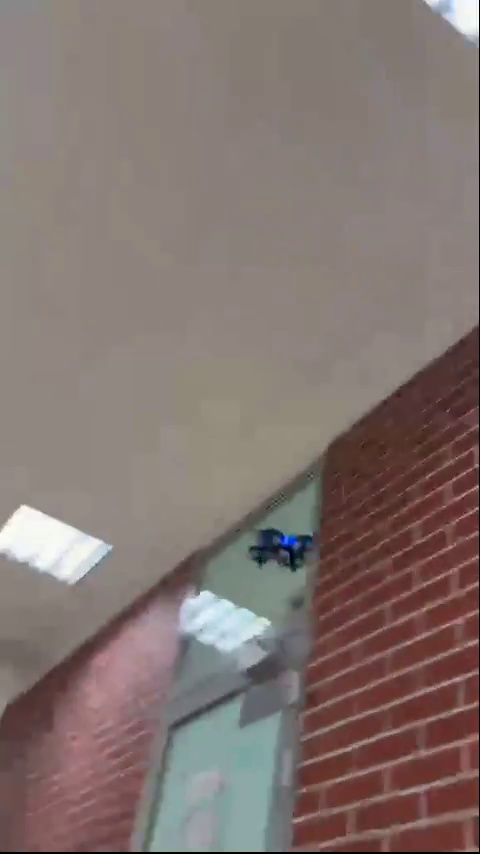drone: (248, 527, 315, 572)
